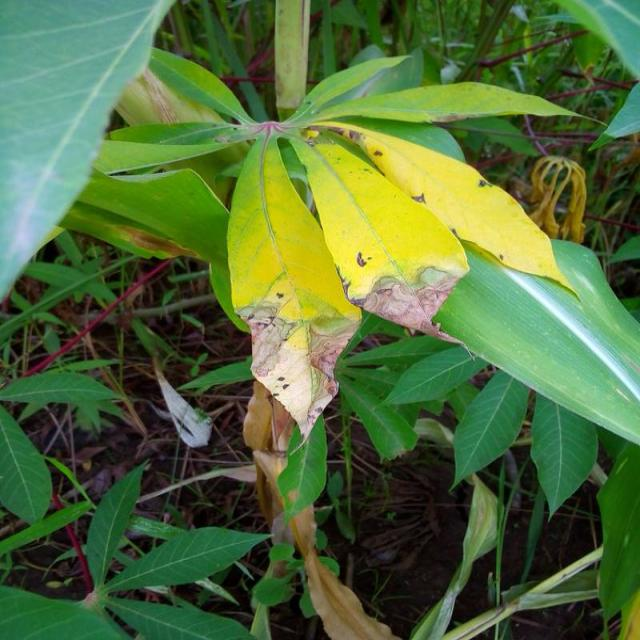cassava leaf: (1, 0, 178, 304), (432, 234, 640, 447)
